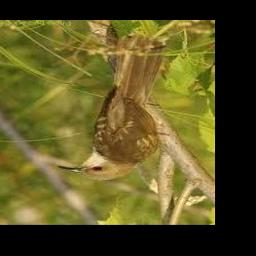Cuckoo: (58, 34, 169, 181)
